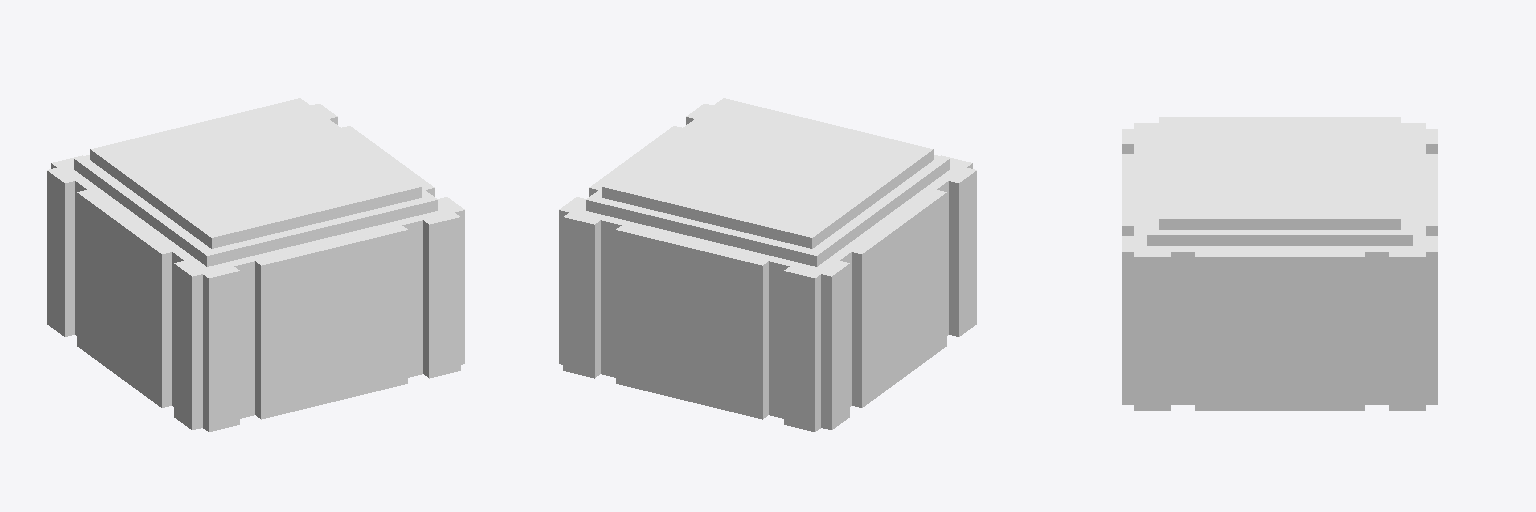
File: glue_robot_arm-1.obj
The picture shows the model from 3 angles: view 1: azimuth 30°, elevation 25°; view 2: azimuth 150°, elevation 25°; view 3: azimuth 270°, elevation 25°; orthographic projection.
Visible parts, largest first — view 1: object 1; view 2: object 1; view 3: object 1.
Boxes of the visible parts, box(x1,y1,x2,y2) form: object 1: box(47, 98, 464, 431); object 1: box(559, 98, 976, 431); object 1: box(1122, 117, 1437, 410).
Size of the model in its own units: 2.6 by 1.6 by 2.6.